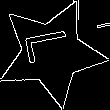L_E: (23, 33, 80, 73)
